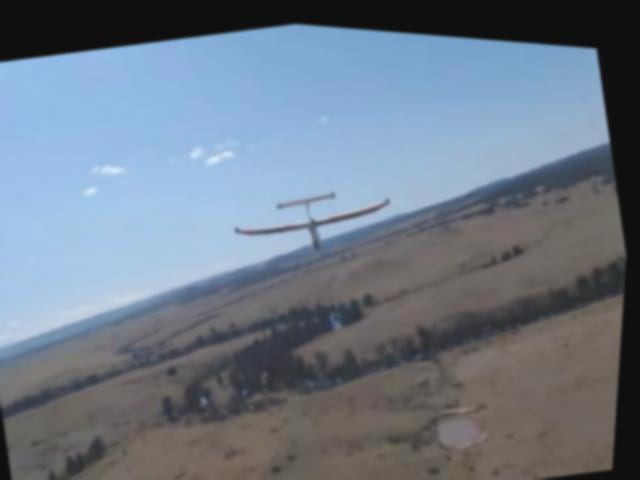uav: (228, 165, 403, 268)
